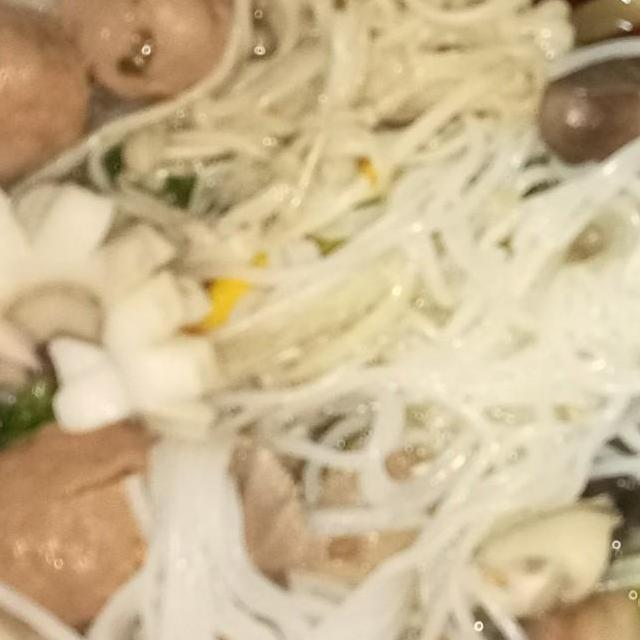bun: (349, 68, 640, 520), (105, 411, 545, 640)
muc: (0, 167, 240, 470)
